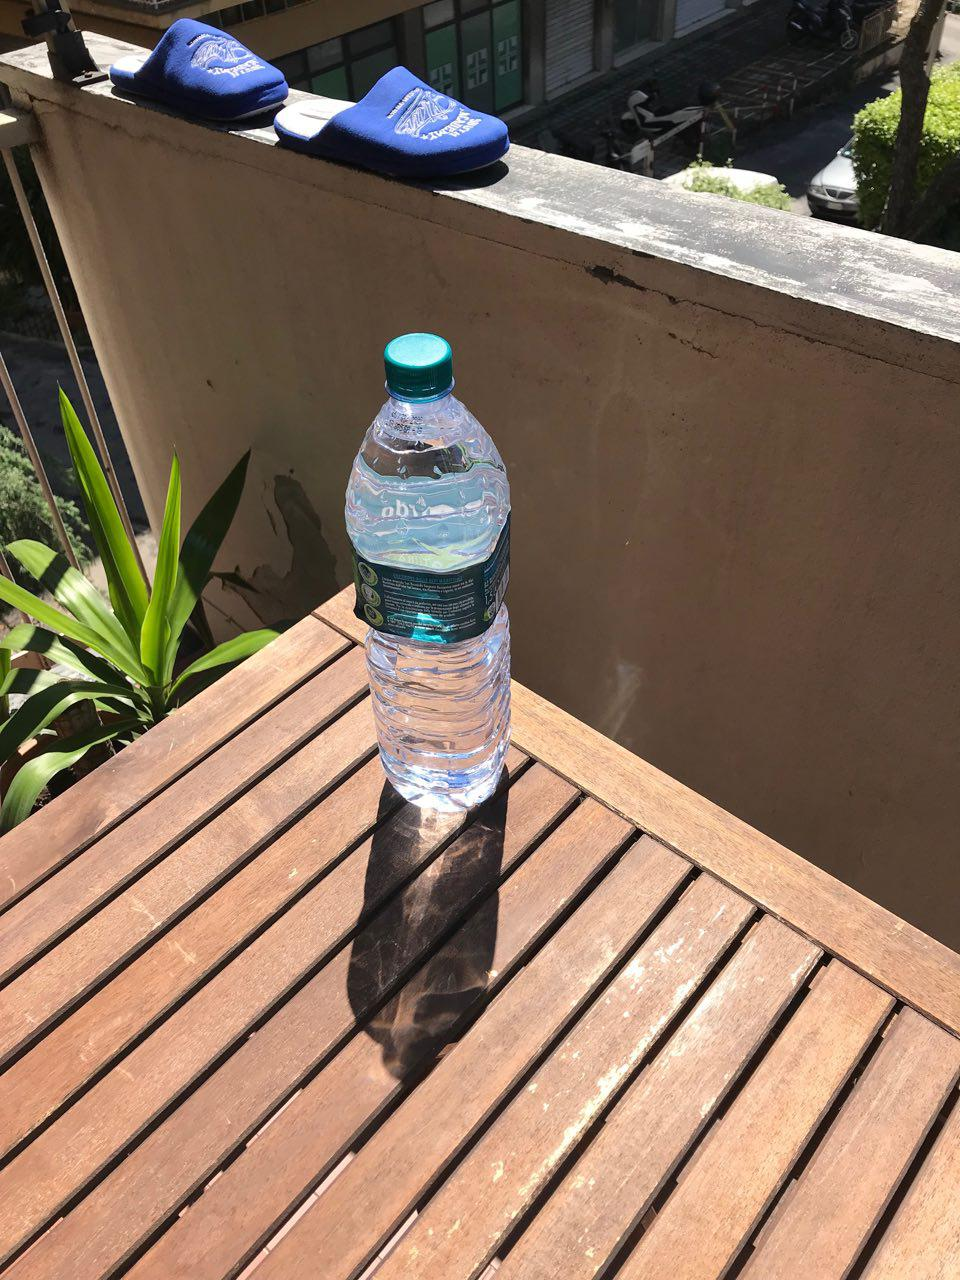san_bernardo: (342, 330, 511, 813)
